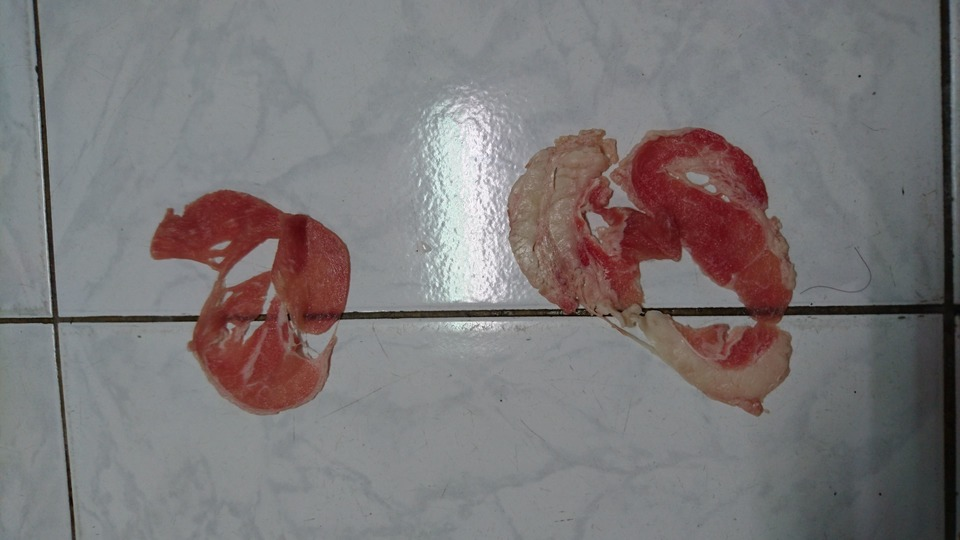restructured meat: (501, 116, 798, 427), (144, 178, 353, 425)
